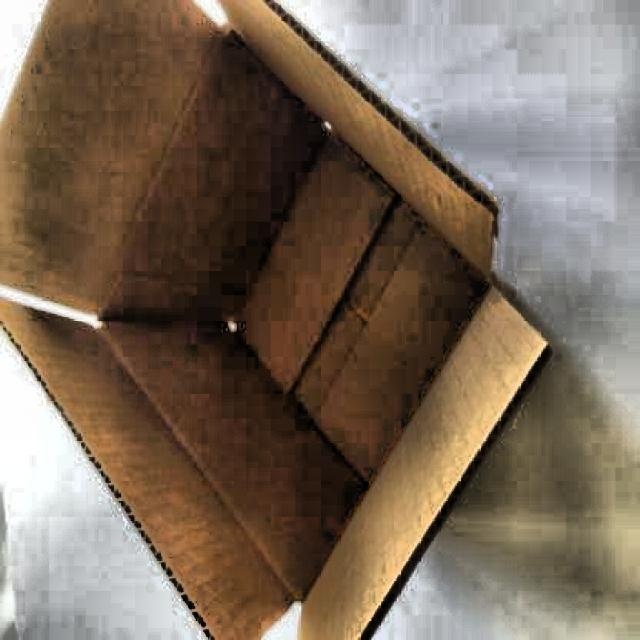Cardbox: (0, 0, 579, 640)
